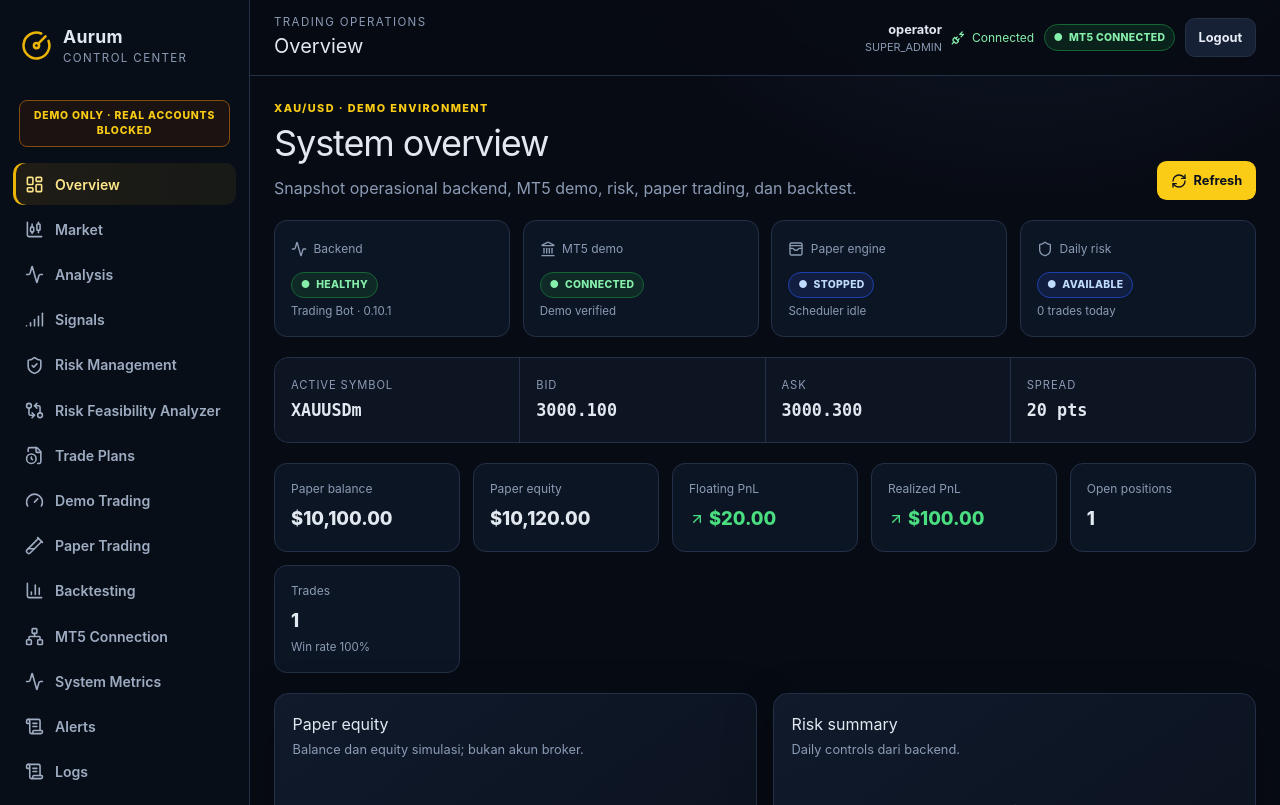
authentication routes and session UI › logs out and returns to login
Click the button "Logout" at [1220, 38], box [1185,18,1256,57]
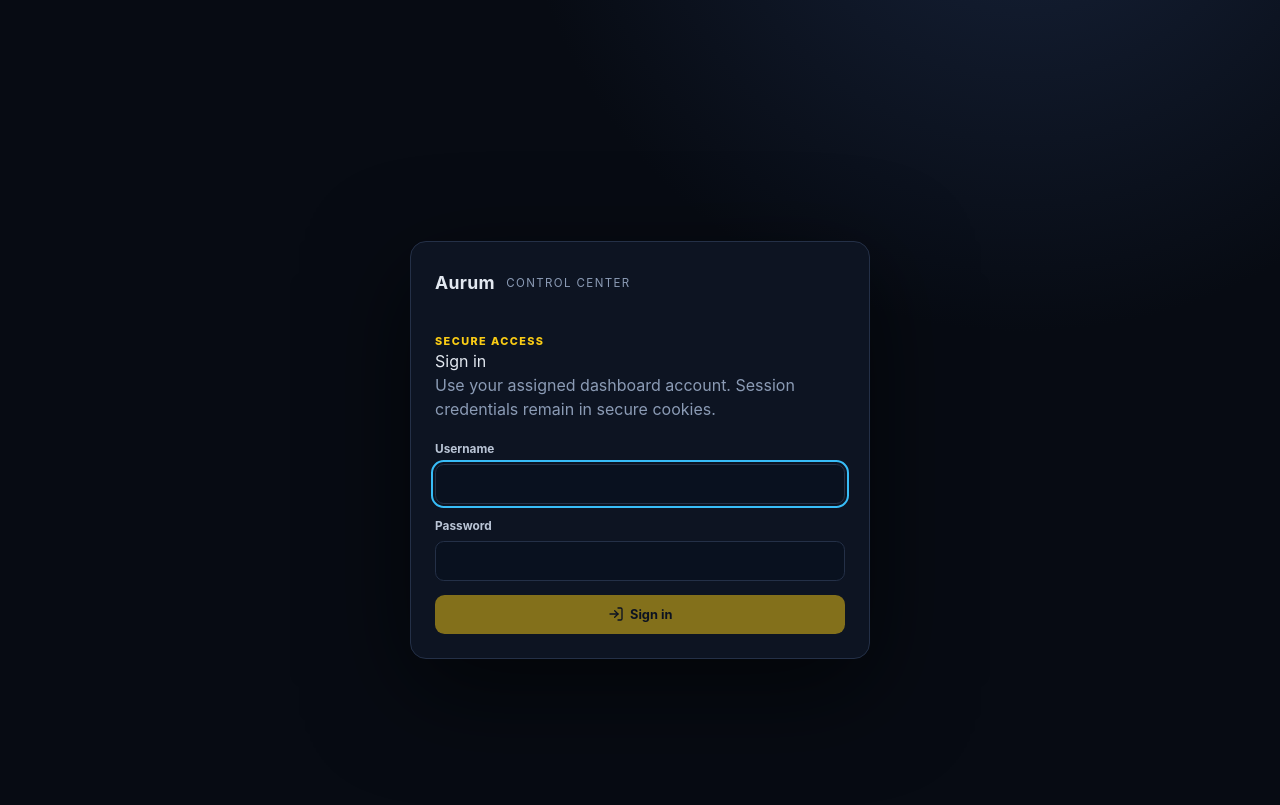
Check: the heading "Sign in" is shown, box [435,351,486,371]
